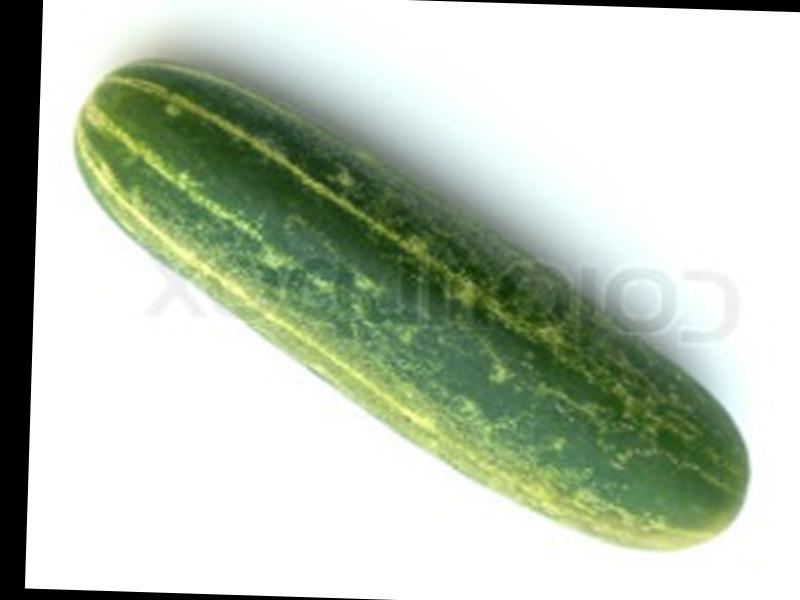Cucumber: (57, 60, 759, 557)
